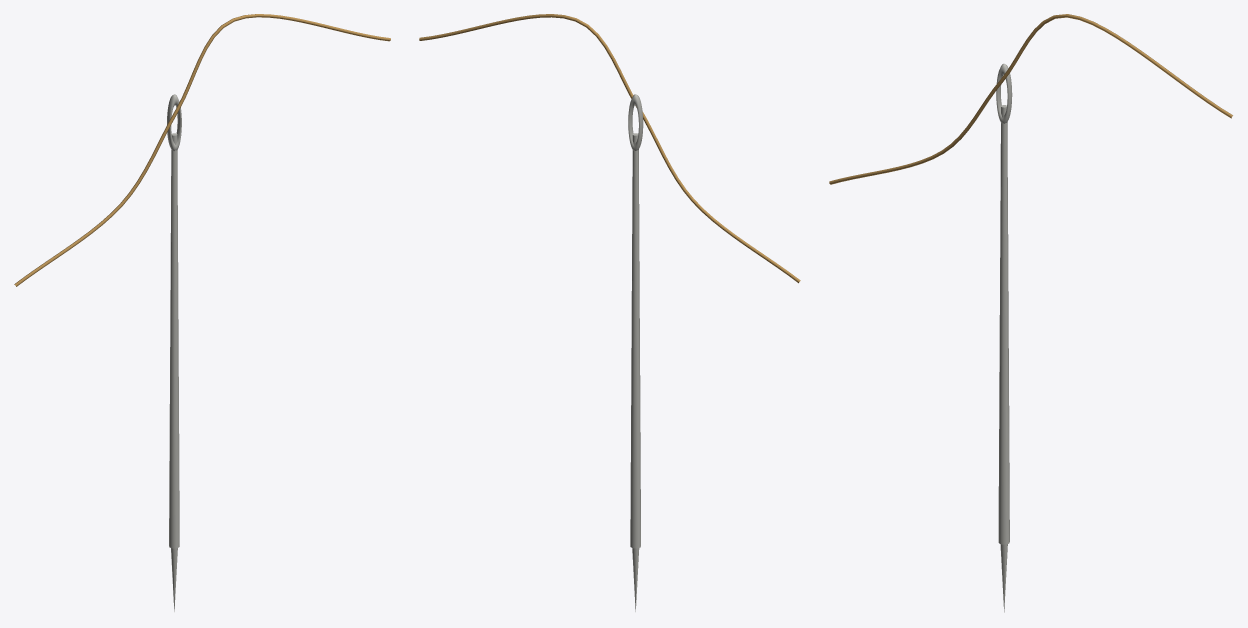
File: sewing-needle.glb
3 renders of one model, left to right at view 1: azimuth 30°, elevation 25°; view 2: azimuth 150°, elevation 25°; view 3: azimuth 330°, elevation 25°, orthographic. The views are drawn at different scales.
Visible parts, largest first — view 1: needle-shaft, needle-thread; view 2: needle-shaft, needle-thread, needle-eye; view 3: needle-shaft, needle-thread, needle-eye.
Part boxes in pixels (x1,y1,x2,y2): needle-shaft: (169, 133, 179, 548); needle-thread: (14, 14, 390, 286); needle-shaft: (630, 133, 640, 548); needle-thread: (419, 14, 800, 283); needle-eye: (628, 94, 643, 150); needle-shaft: (998, 105, 1009, 544); needle-thread: (829, 14, 1232, 184); needle-eye: (996, 63, 1012, 123).
Bounding box in the file's own units: 0.7022 × 1.03 × 0.0206.
